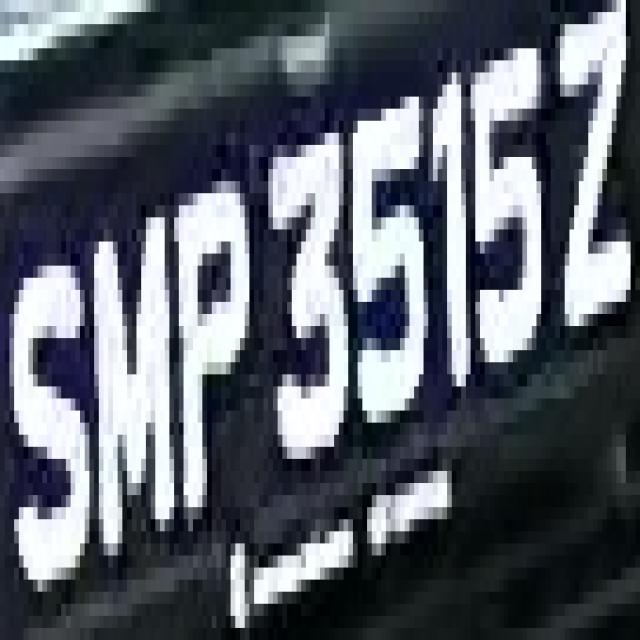1: (405, 61, 489, 410)
3: (263, 121, 353, 483)
5: (461, 36, 560, 399), (348, 97, 424, 434)
M: (84, 193, 184, 580)
P: (174, 145, 250, 543)
S: (9, 217, 85, 592)
Z: (541, 24, 631, 399)
